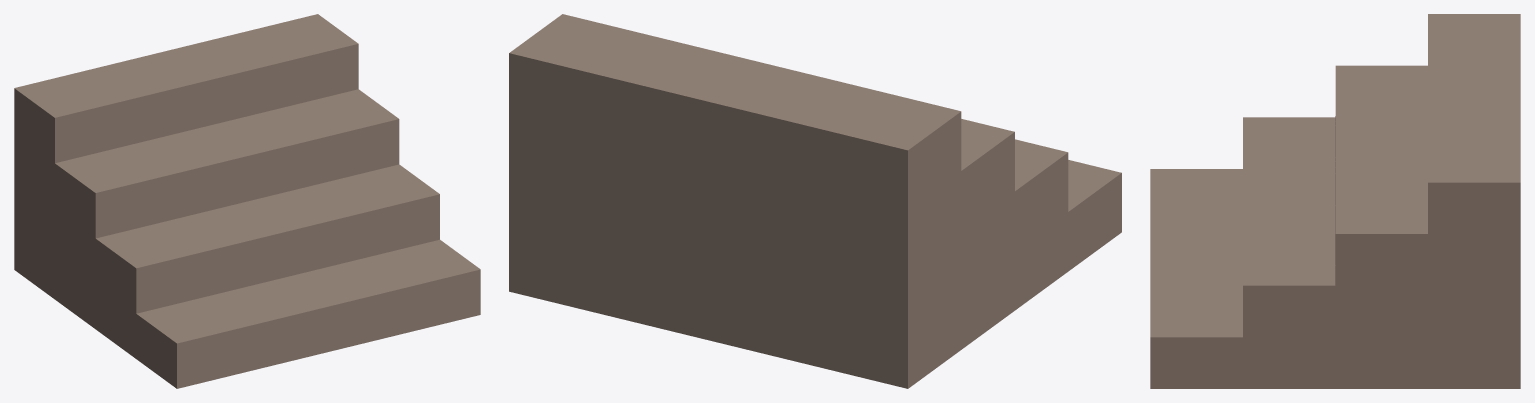
Rendered from Half_Stairs.fbx.
The picture shows the model from 3 angles, left to right: view 1: azimuth 30°, elevation 25°; view 2: azimuth 150°, elevation 25°; view 3: azimuth 270°, elevation 25°; orthographic projection. The views are drawn at different scales.
Parts seen in each view (by area): view 1: Half_Stairs; view 2: Half_Stairs; view 3: Half_Stairs.
Boxes of the visible parts, <box> form: Half_Stairs: <box>14,14,480,388</box>; Half_Stairs: <box>509,14,1121,388</box>; Half_Stairs: <box>1150,14,1520,388</box>.
Bounding box in the file's own units: 175 × 100 × 163.
Materials: 1 (1 with a texture image).
